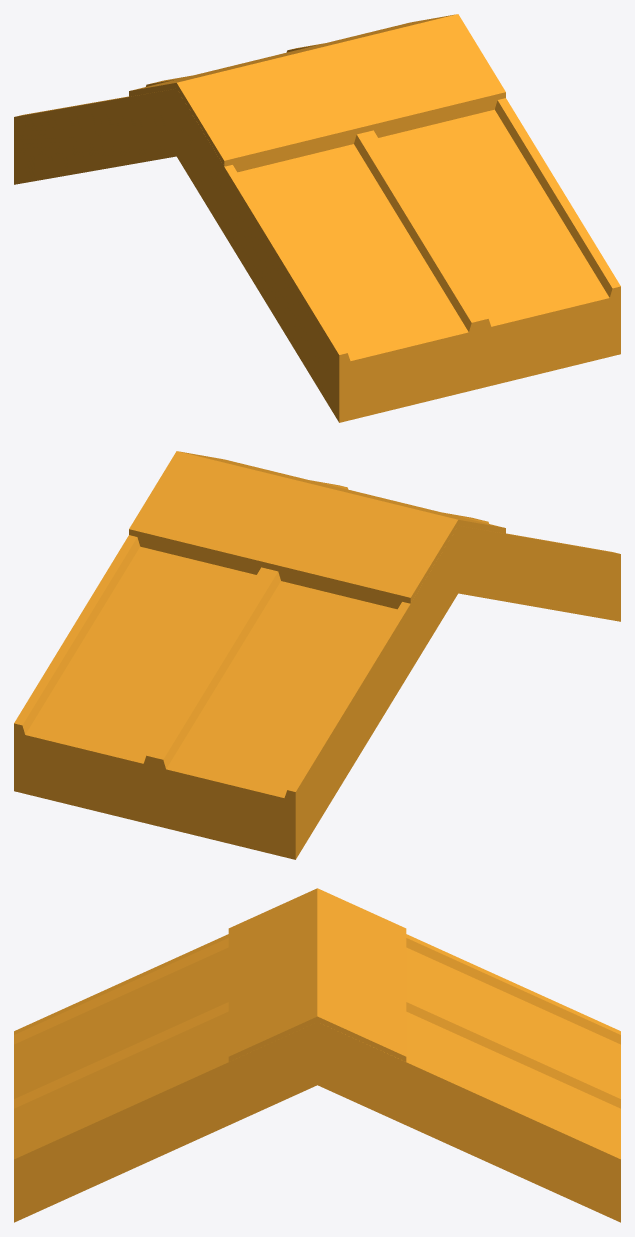
The model's file is SM_Roof_Metal_Moderate_1x1m_Center.fbx.
3 views of the same model, one above another, from view 1: azimuth 30°, elevation 25°; view 2: azimuth 150°, elevation 25°; view 3: azimuth 270°, elevation 25° (orthographic). The views are drawn at different scales.
Visible parts, largest first — view 1: roof-metal-moderate-1x1m-center; view 2: roof-metal-moderate-1x1m-center; view 3: roof-metal-moderate-1x1m-center.
Boxes of the visible parts, <box> form: roof-metal-moderate-1x1m-center: <box>14,14,620,422</box>; roof-metal-moderate-1x1m-center: <box>14,451,620,859</box>; roof-metal-moderate-1x1m-center: <box>14,888,620,1222</box>.
Size of the model in its own units: 1 by 0.7502 by 2.
